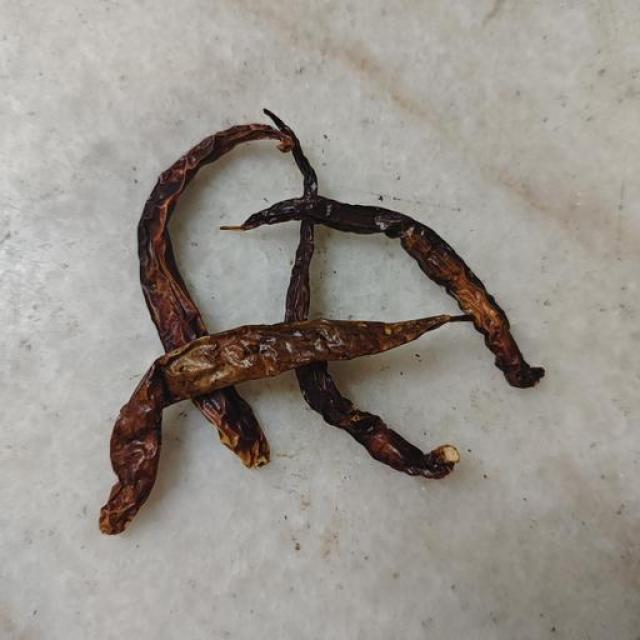organic: (100, 315, 467, 533), (223, 197, 543, 387), (138, 124, 291, 351), (295, 362, 453, 478)
